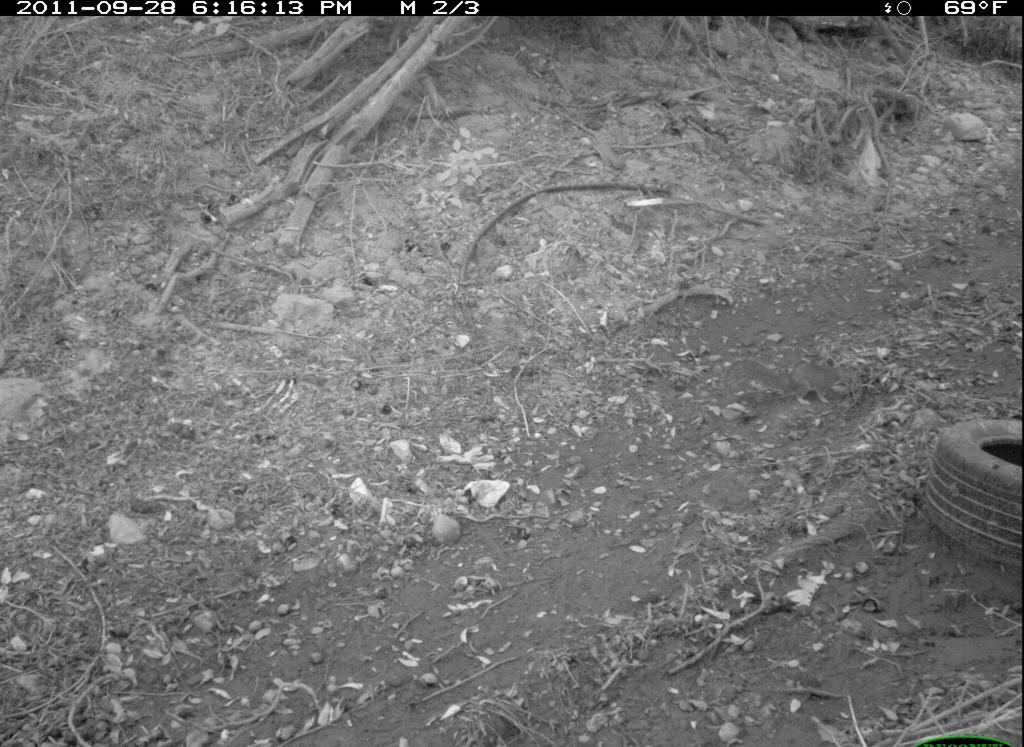squirrel: (716, 347, 873, 423)
